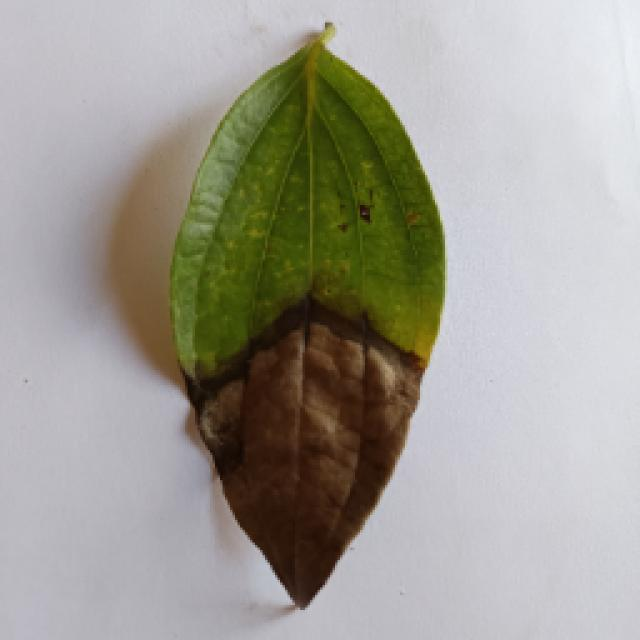footrot: (165, 30, 450, 612)
